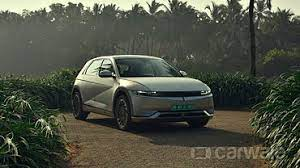Honda Ioniq: (65, 49, 224, 138)
